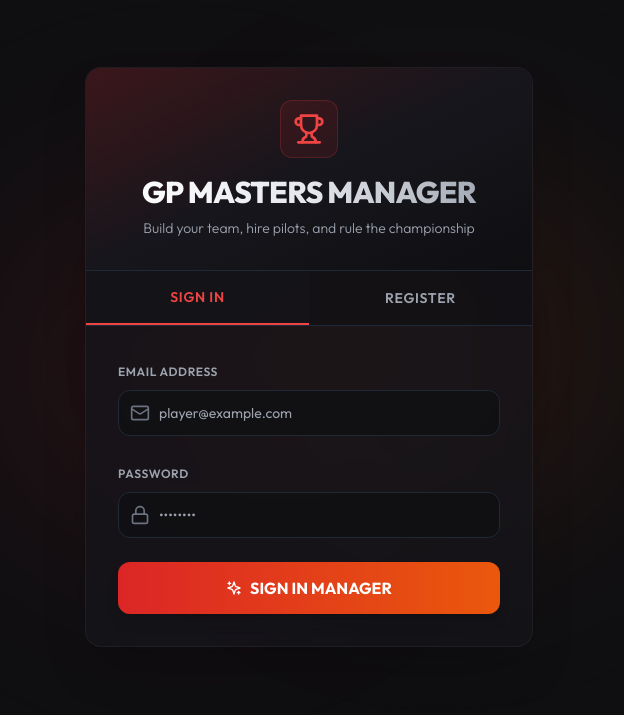
Scenario: Auth Component › switches to register tab when clicking register
The width and height of the screenshot is (624, 715).
Click the button "REGISTER" at (420, 298), box left=309, top=271, right=532, bottom=325
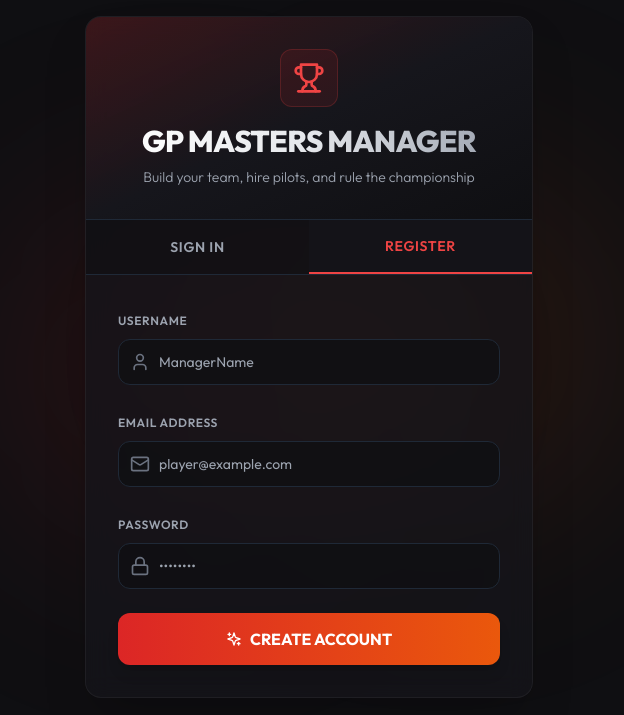
Result: the field with placeholder "ManagerName" is shown at left=118, top=339, right=500, bottom=385
